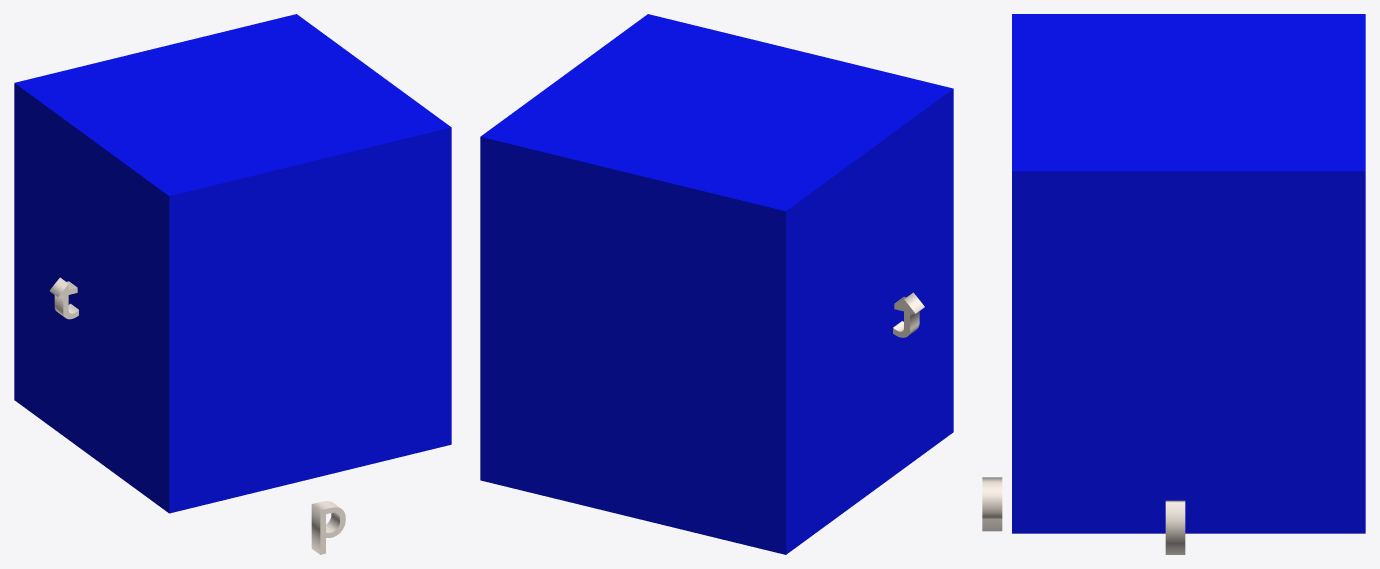
The model's file is 1. Kubus.fbx.
3 views of the same model, side by side, from view 1: azimuth 30°, elevation 25°; view 2: azimuth 150°, elevation 25°; view 3: azimuth 270°, elevation 25° (orthographic). The views are drawn at different scales.
Parts seen in each view (by area): view 1: Cube, Text.003, Text.002; view 2: Cube, Text.002; view 3: Cube, Text.003, Text.004.
Boxes of the visible parts, x1,y1,x2,y2 form: Cube: [14, 14, 451, 513]; Text.003: [311, 501, 345, 554]; Text.002: [49, 277, 78, 319]; Cube: [480, 14, 953, 554]; Text.002: [893, 292, 924, 337]; Cube: [1012, 14, 1365, 533]; Text.003: [982, 477, 1002, 531]; Text.004: [1165, 500, 1185, 554].
Size of the model in its own units: 566 by 584 by 464.
